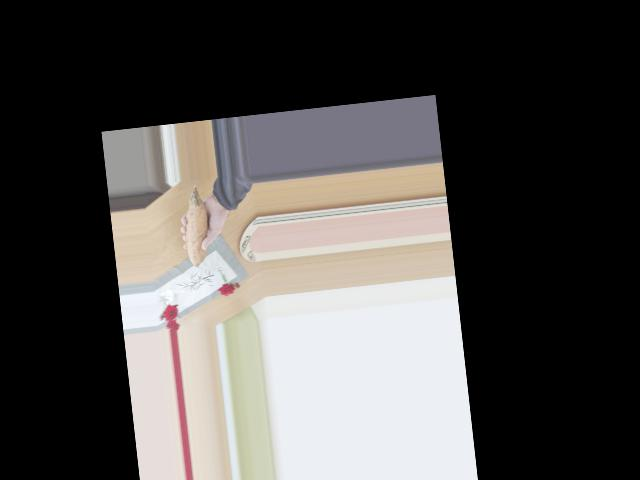sweet_potato: (177, 190, 219, 270)
